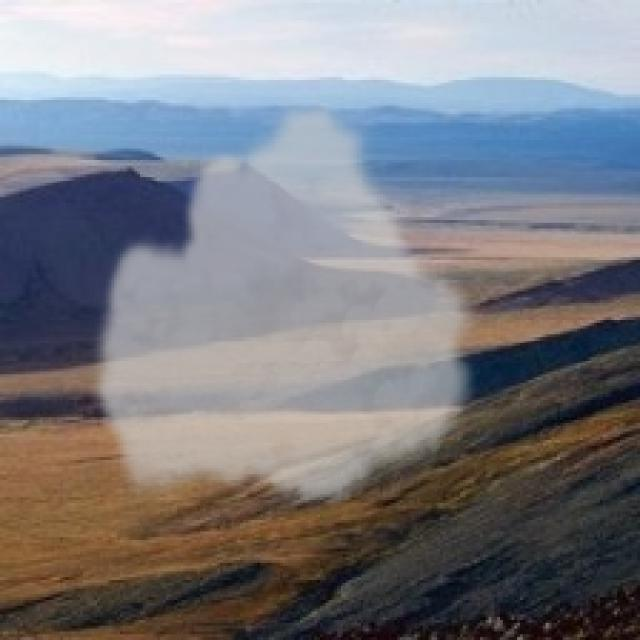smoke: (88, 91, 486, 508)
